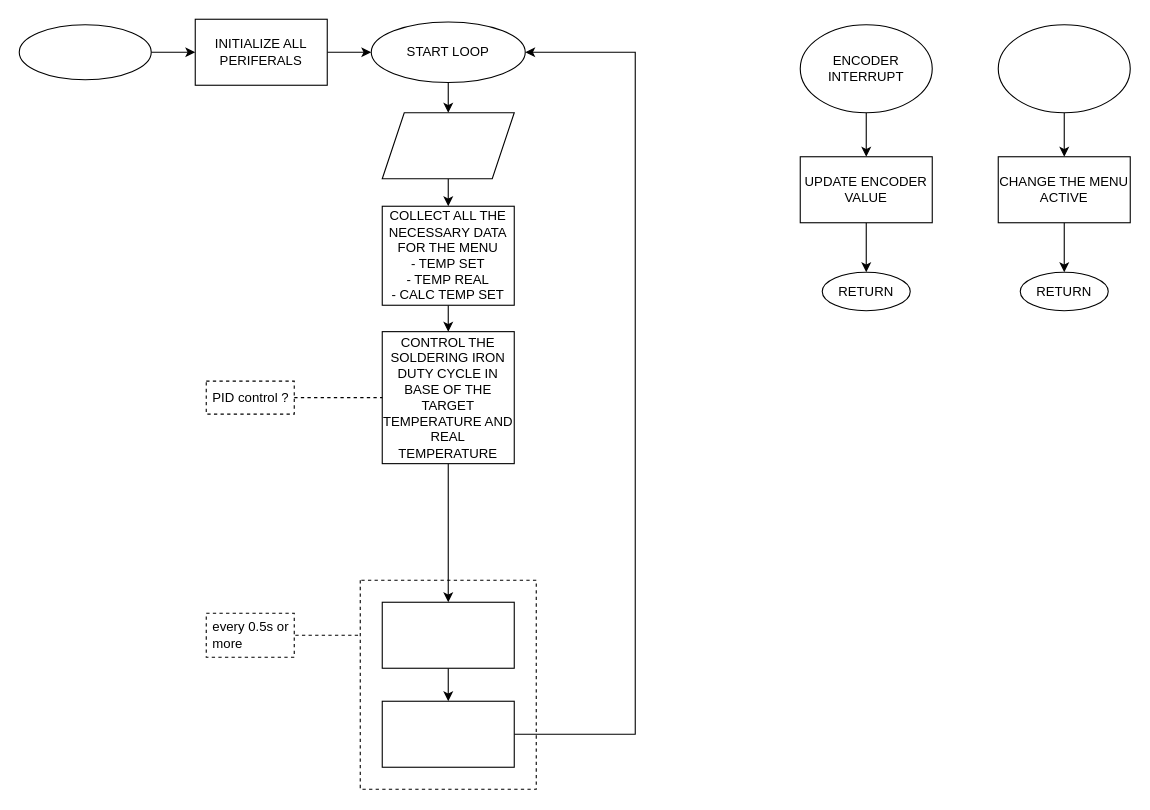
The diagram is 1150 pixels wide and 810 high, and some of its shapes have lost their labels. The centre of each missing label's shape, as x and y in pixels:
"CHECK WHICH MENU IS ACTIVE" goes at point 447,145.
"DRAW ALL GRAPHICS" goes at point 447,634.
"ENCODER SWITCH INTERRUPT" goes at point 1063,68.
"START" goes at point 84,52.
"UPDATE SCREEN" goes at point 447,733.
